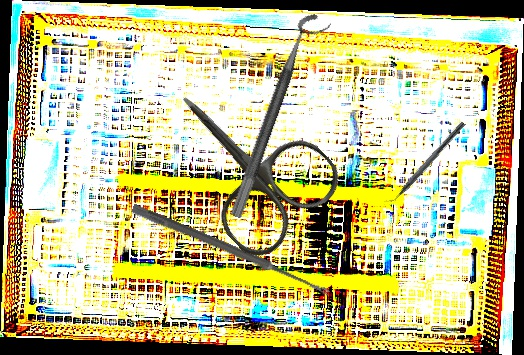Chopper: (382, 115, 466, 210)
Fixation Ring: (228, 10, 333, 225)
Iris Scissors: (138, 53, 350, 267)
Surgical Spoon: (130, 203, 332, 298)
